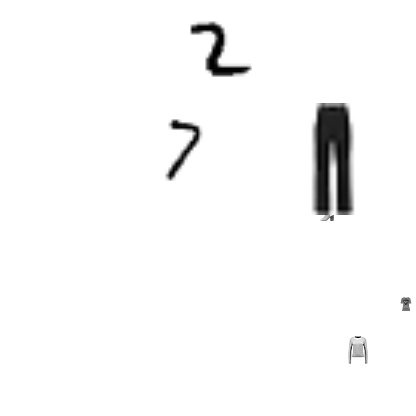2: (173, 7, 257, 91)
7: (139, 102, 223, 186)
Pullover: (344, 336, 372, 364)
Sandal: (320, 209, 334, 223)
T-shirt/top: (399, 297, 413, 311)
Trouser: (277, 103, 389, 215)
